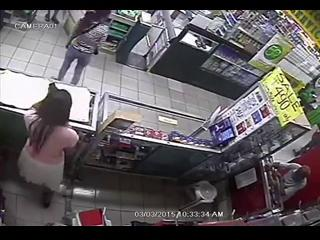Normal: (16, 81, 79, 208), (52, 18, 112, 86)
